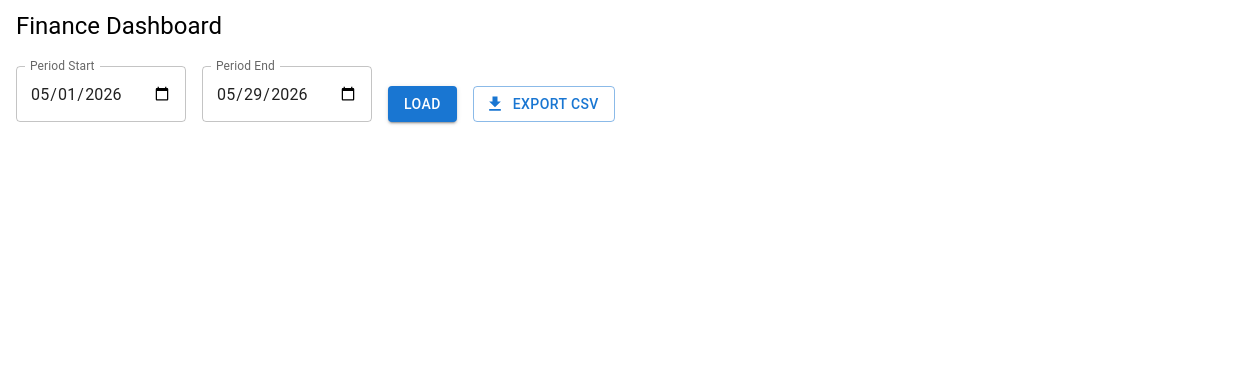
Test: FinanceDashboard › shows spend by category after loading
Click the button "Load". click: (422, 104)
box: [388, 86, 457, 122]
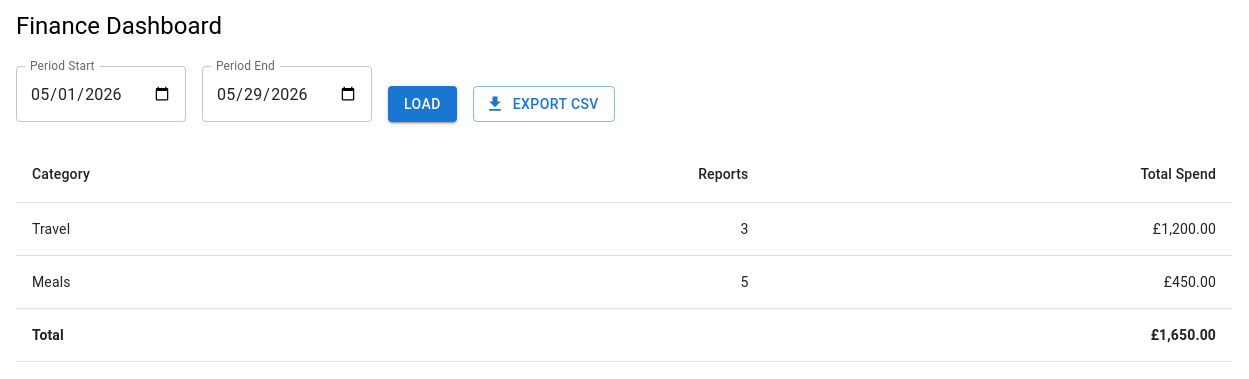
Check: the text "Travel" is shown, box [16, 202, 407, 256]
Check: the text "Meals" is shown, box [16, 256, 407, 308]
